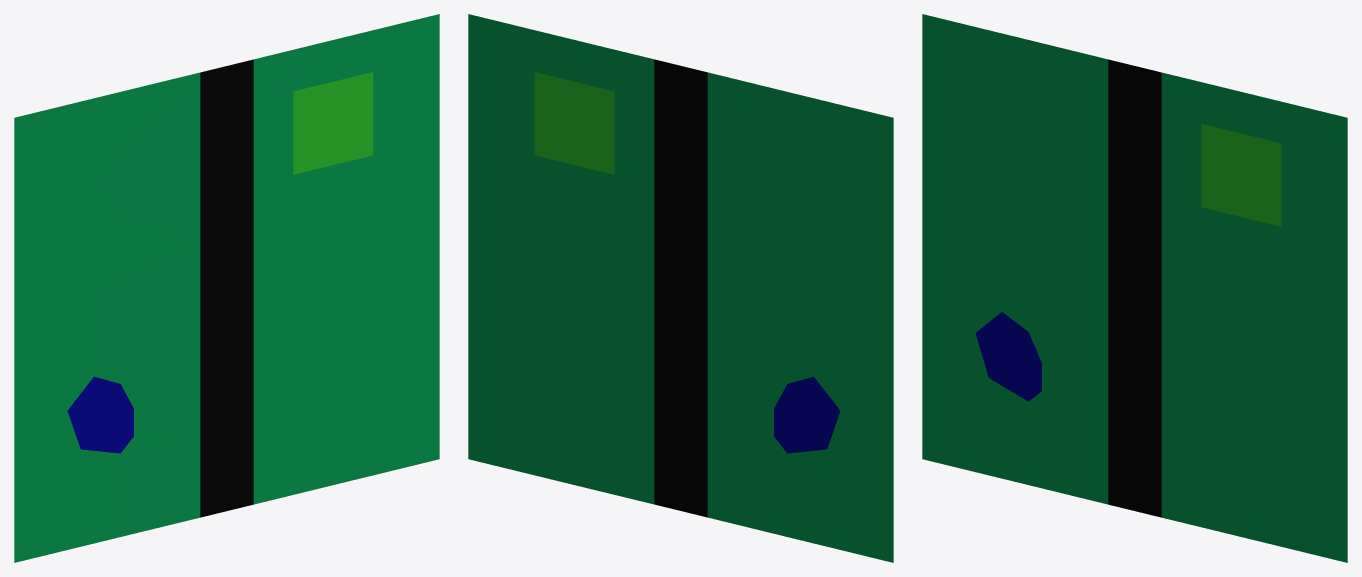
The model's file is tiles2_49.obj.
3 renders of one model, left to right at view 1: azimuth 30°, elevation 25°; view 2: azimuth 150°, elevation 25°; view 3: azimuth 330°, elevation 25°, orthographic.
Parts seen in each view (by area): view 1: tiles2_49; view 2: tiles2_49; view 3: tiles2_49.
Boxes of the visible parts, box(x1,y1,x2,y2) form: tiles2_49: box(14, 14, 439, 562); tiles2_49: box(468, 14, 893, 562); tiles2_49: box(922, 14, 1347, 562).
Bounding box in the file's own units: 4.1 × 4.1 × 0.001.
